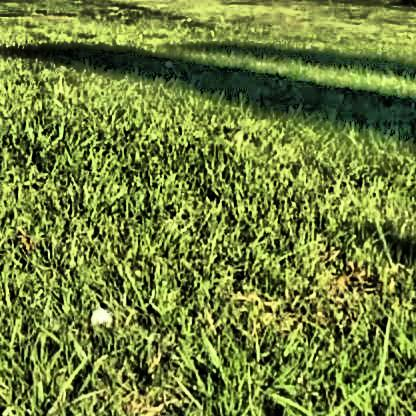golfball: (87, 304, 110, 323)
